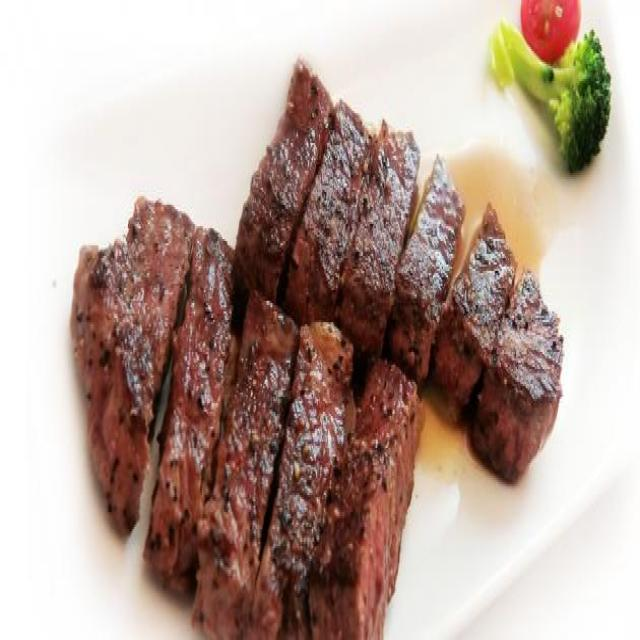Carne: (69, 53, 565, 636)
